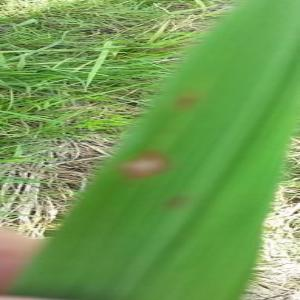Rice_Blast: (111, 146, 178, 192)
